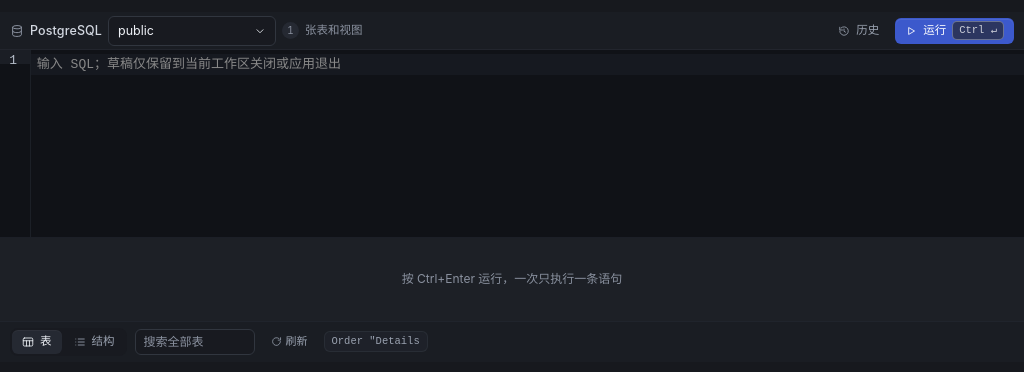
Test: DbPanel SQL regressions › PostgreSQL chips use double quotes and double embedded quotes
Click the button "Order \"Details" at x=376, y=342, box x1=324 y1=331 x2=428 y2=352
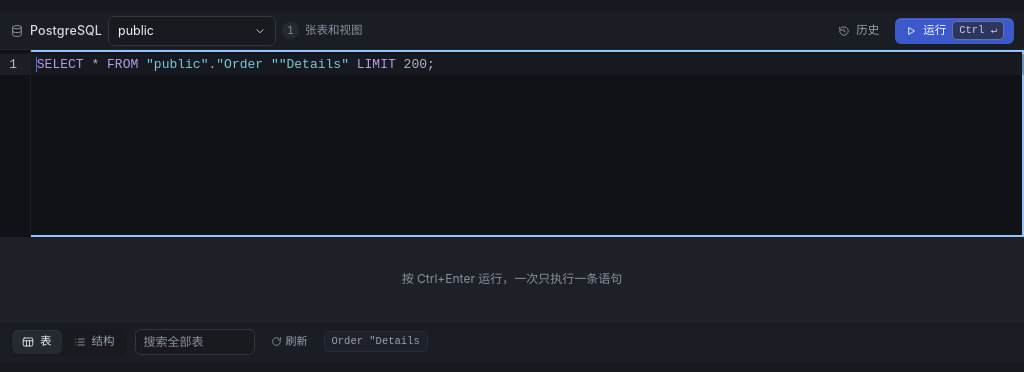
Result: the text box labelled "SELECT * FROM \"public\".\"Order \"\"Details\" LIMIT 200;" reads "SELECT * FROM \"public\".\"Order \"\"Details\" LIMIT 200;" at x1=31 y1=54 x2=1023 y2=75
